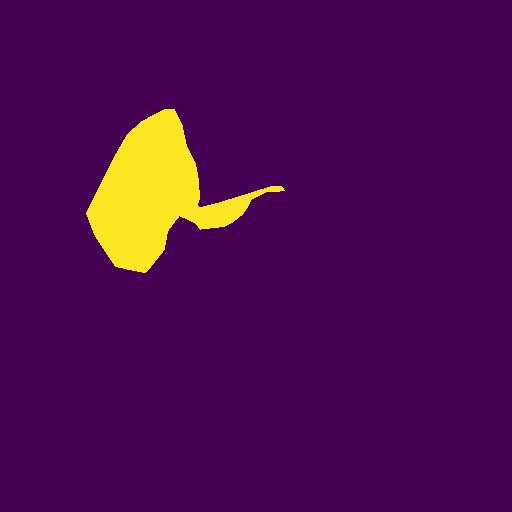Gliomia_tumour: (86, 109, 285, 273)
